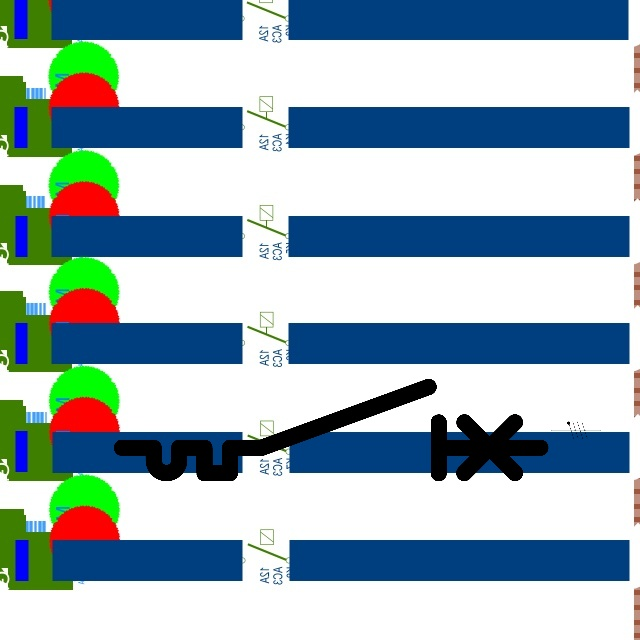interruptor_termomagnetico: (111, 376, 551, 484)
